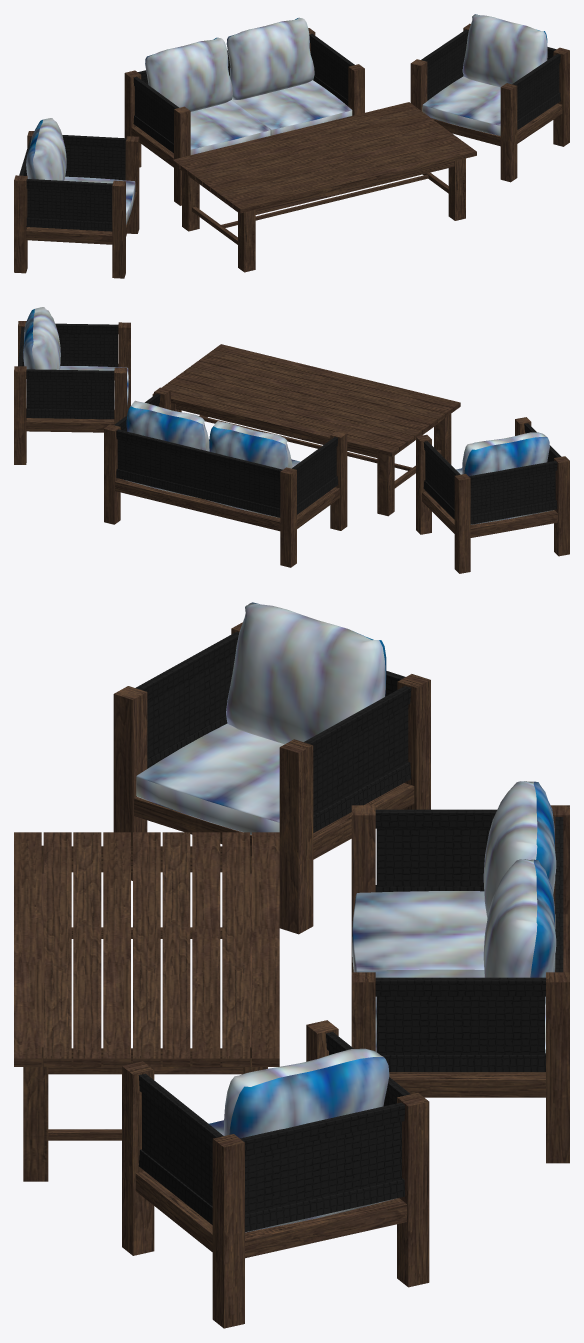
File: LoungeSet.fbx
The picture shows the model from 3 angles, top to bottom: view 1: azimuth 30°, elevation 25°; view 2: azimuth 150°, elevation 25°; view 3: azimuth 270°, elevation 25°; orthographic projection. The views are drawn at different scales.
Parts seen in each view (by area): view 1: LoungeSofa, LoungeTable, LoungeChair, LoungeChair.001; view 2: LoungeSofa, LoungeTable, LoungeChair.001, LoungeChair; view 3: LoungeTable, LoungeSofa, LoungeChair.001, LoungeChair.
Boxes of the visible parts, <box> form: LoungeSofa: <box>124,17,364,205</box>; LoungeTable: <box>172,102,476,272</box>; LoungeChair: <box>410,14,569,182</box>; LoungeChair.001: <box>14,118,139,278</box>; LoungeSofa: <box>104,387,347,567</box>; LoungeTable: <box>152,344,460,516</box>; LoungeChair.001: <box>416,417,569,573</box>; LoungeChair: <box>14,307,130,464</box>; LoungeTable: <box>14,832,279,1181</box>; LoungeSofa: <box>351,781,569,1163</box>; LoungeChair.001: <box>113,602,430,934</box>; LoungeChair: <box>122,1020,429,1328</box>.
Size of the model in its own units: 439 by 88.4 by 196.
